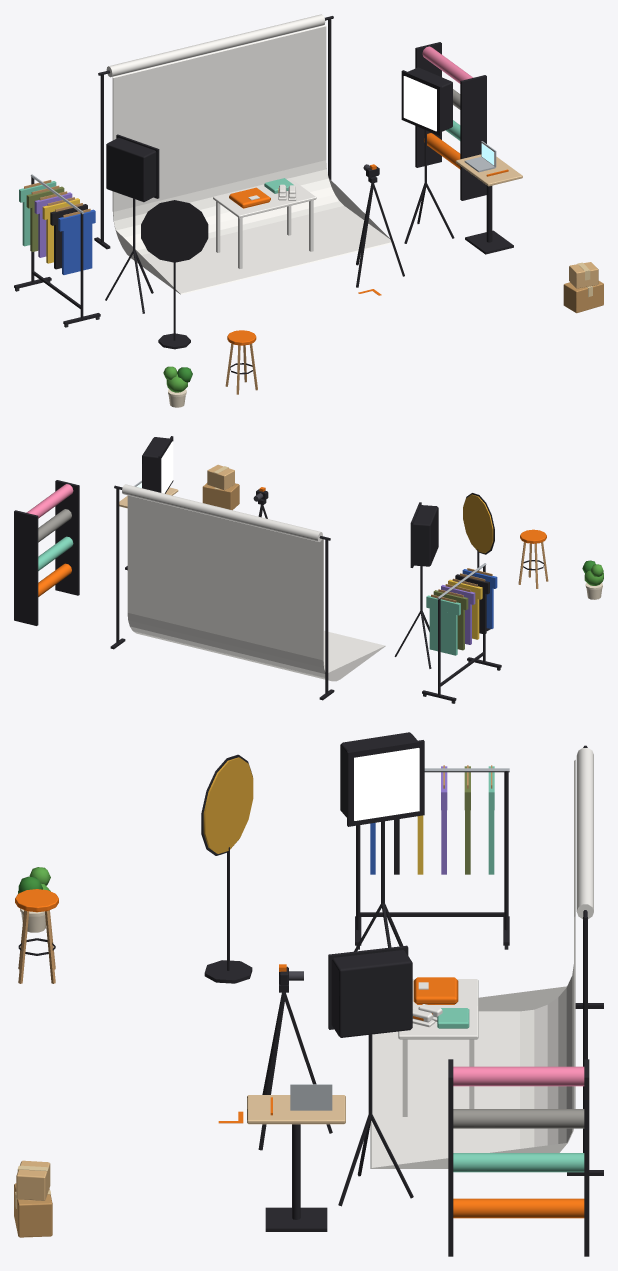
The model's file is einrichtung_fotostudio.glb.
3 views of the same model, one above another, from view 1: azimuth 30°, elevation 25°; view 2: azimuth 150°, elevation 25°; view 3: azimuth 270°, elevation 25° (orthographic). The views are drawn at different scales.
Visible parts, largest first — view 1: einrichtung_fotostudio; view 2: einrichtung_fotostudio; view 3: einrichtung_fotostudio.
Part boxes in pixels (box(x1,y1,x2,y2)): einrichtung_fotostudio: box(14, 14, 603, 407); einrichtung_fotostudio: box(14, 436, 603, 703); einrichtung_fotostudio: box(14, 732, 603, 1256).
Bounding box in the file's own units: 6.45 × 2.37 × 4.78.
